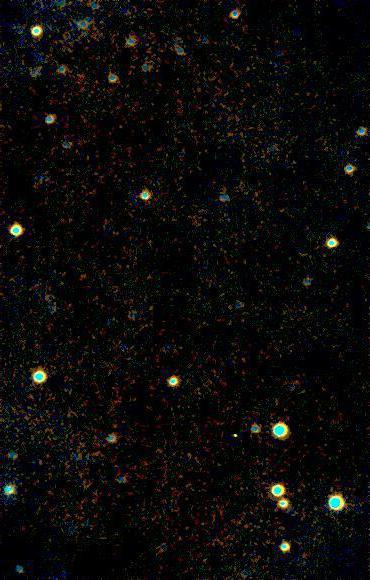star: (69, 261, 99, 291)
